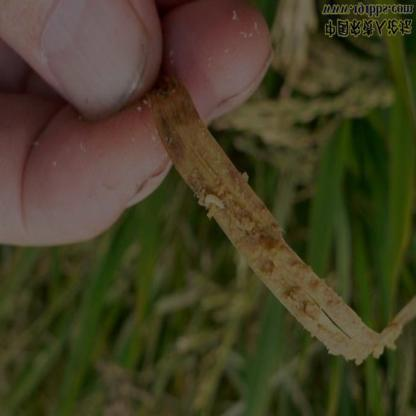whorl-maggot: (200, 189, 231, 220)
